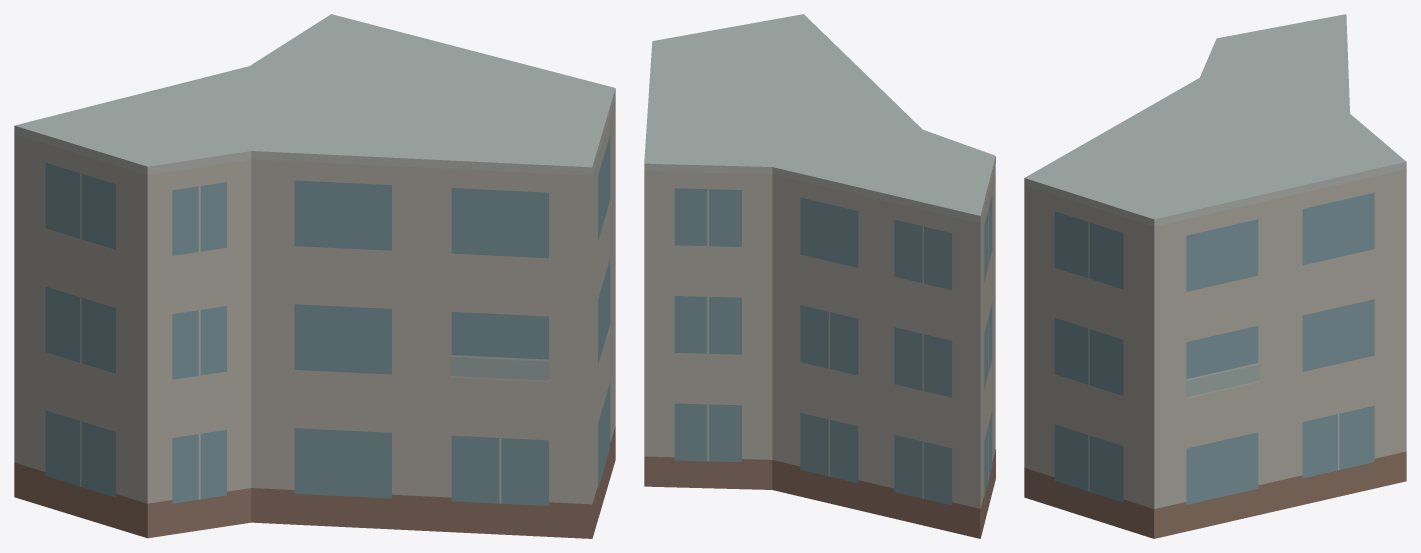
File: survey-upis-32502190.glb
3 renders of one model, left to right at view 1: azimuth 30°, elevation 25°; view 2: azimuth 150°, elevation 25°; view 3: azimuth 270°, elevation 25°, orthographic. The views are drawn at different scales.
Parts seen in each view (by area): view 1: survey-upis-32502190.tmp; view 2: survey-upis-32502190.tmp; view 3: survey-upis-32502190.tmp.
Part boxes in pixels (x1,y1,x2,y2): survey-upis-32502190.tmp: (14,14,615,538); survey-upis-32502190.tmp: (644,14,995,538); survey-upis-32502190.tmp: (1024,14,1406,538).
Bounding box in the file's own units: 14.9 × 10.8 × 11.72.
